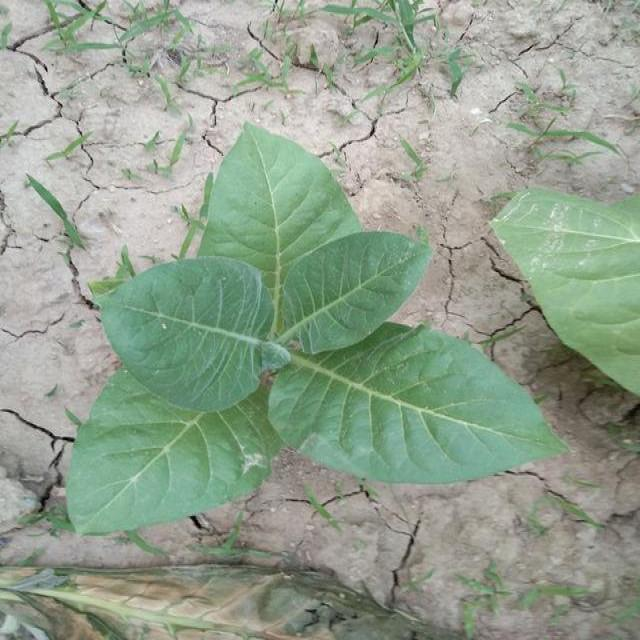crop: (73, 124, 548, 525), (498, 178, 640, 395)
